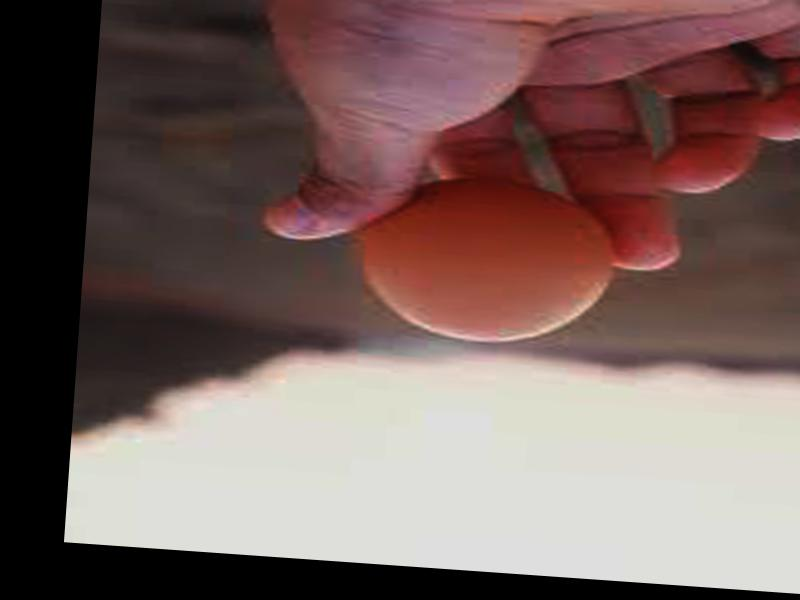Eggs: (355, 173, 619, 350)
